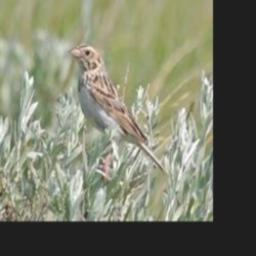Sparrow: (68, 42, 169, 186)
